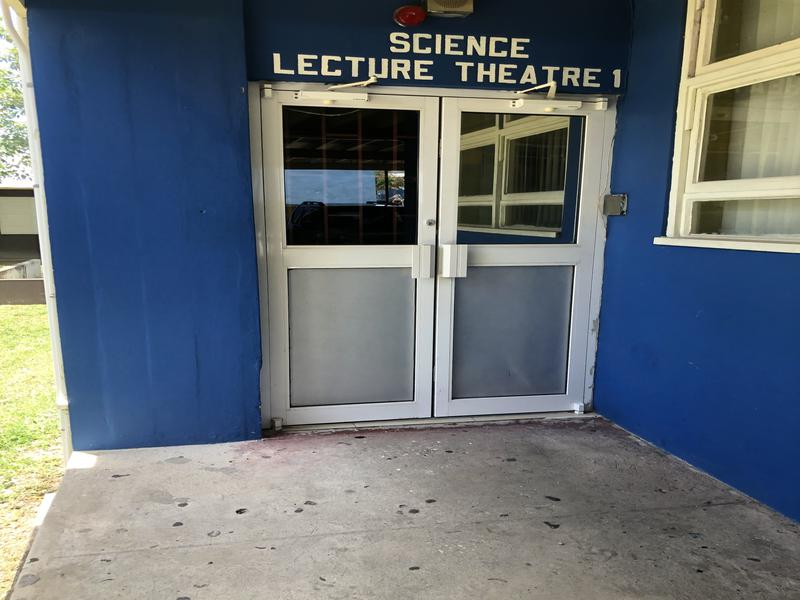18.0051836_-76.7497262_pclt1: (218, 5, 634, 441)
